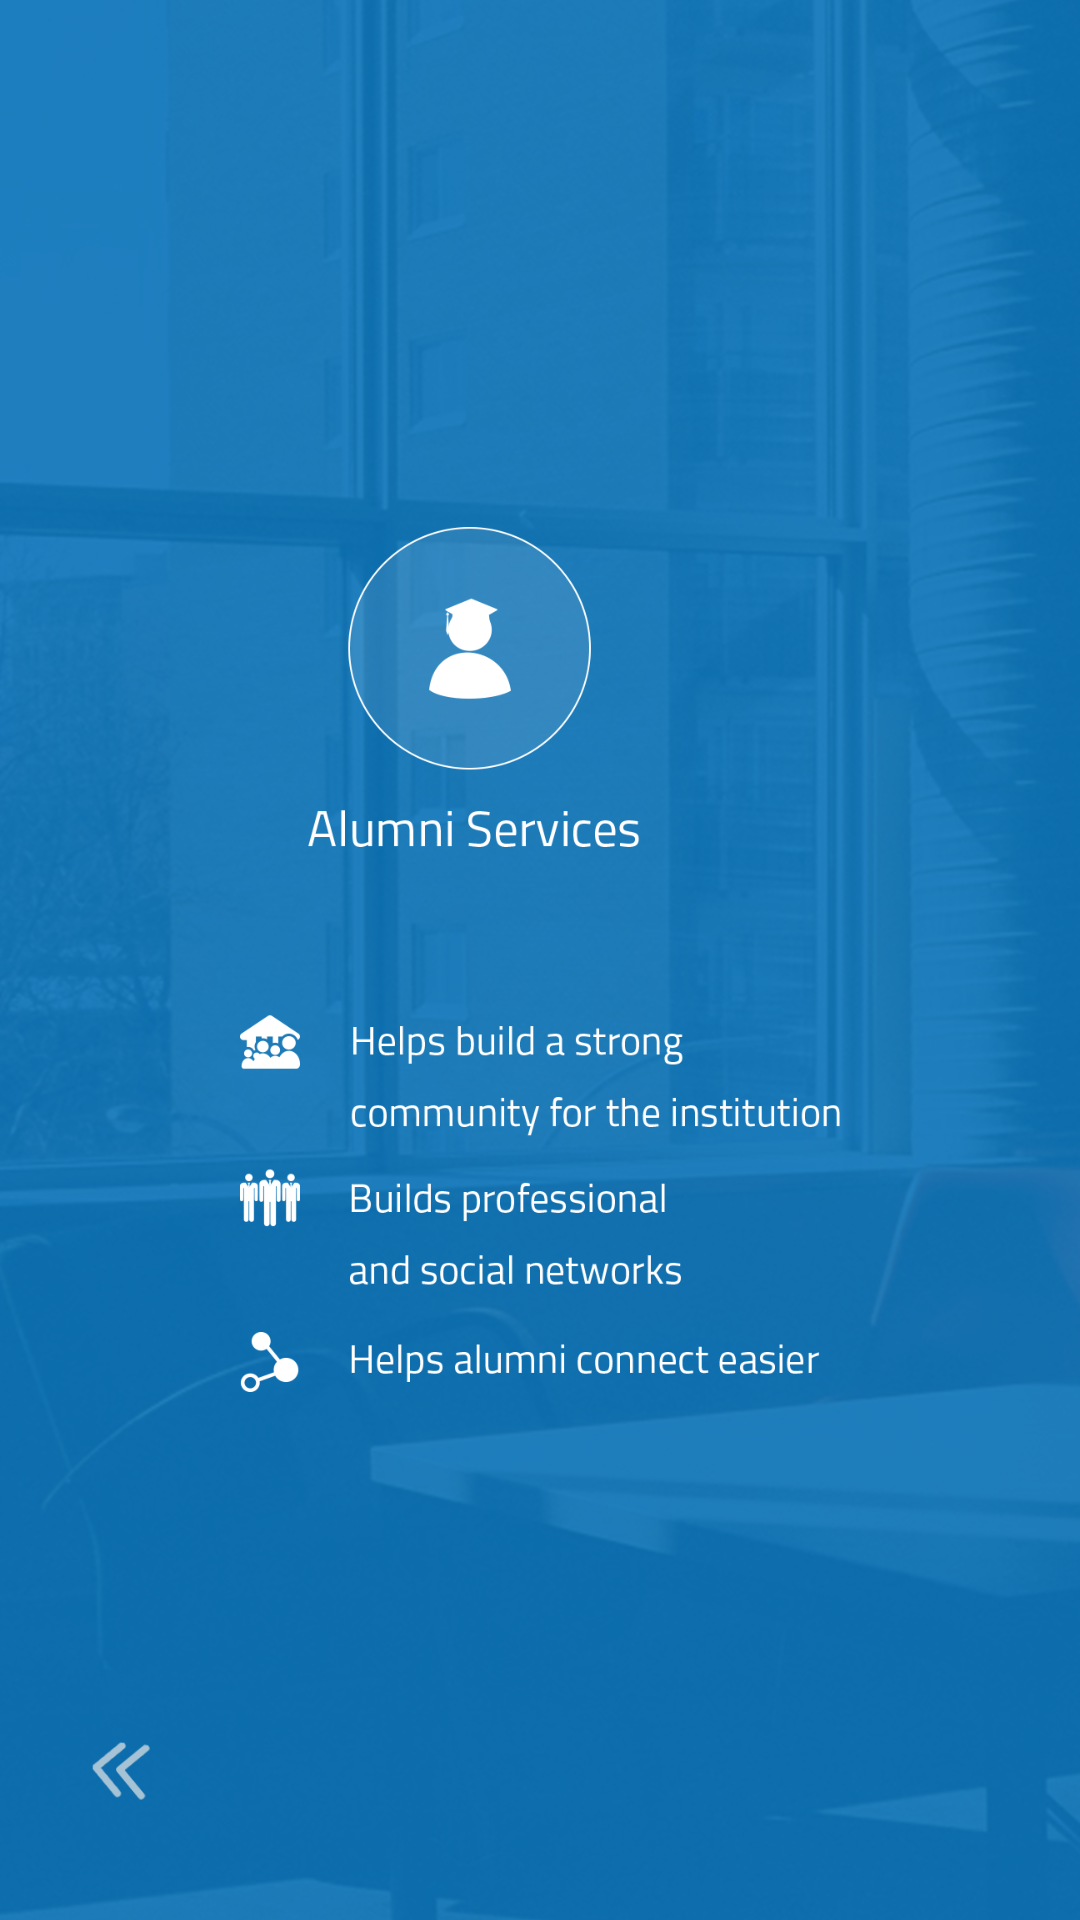

Screen size 1080x1920. Icon name, then its box in pixels as (x1, y1, x2, y2):
arrowsprev: (92, 1742, 150, 1800)
